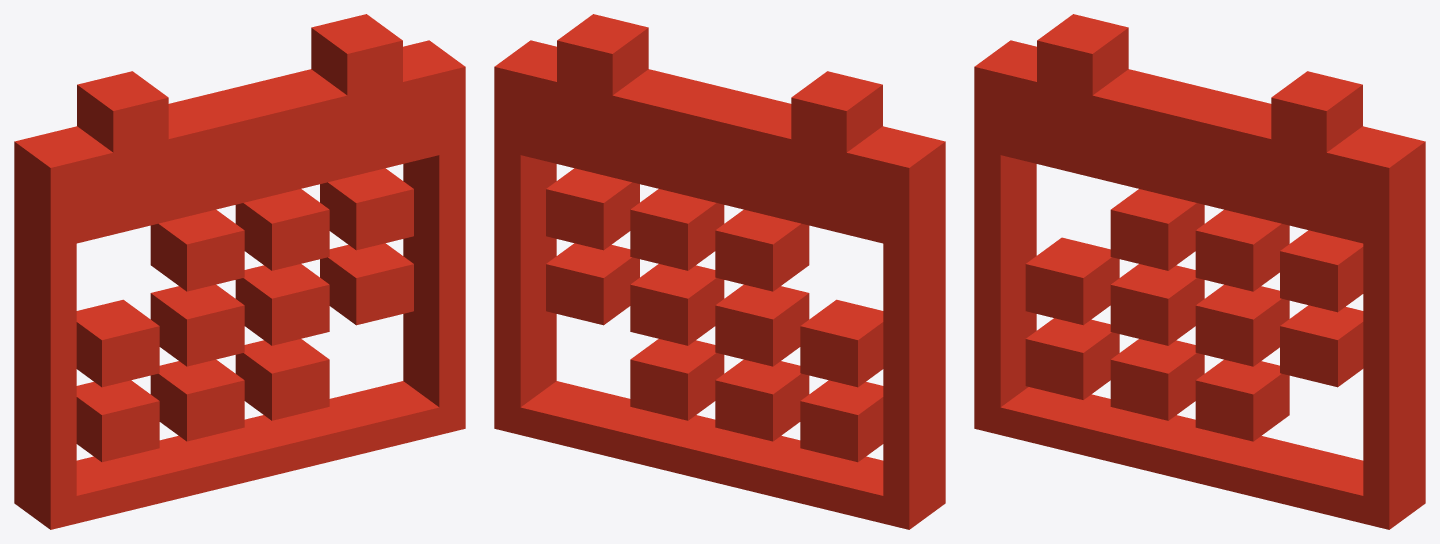
Rendered from Icon_Calendar_01.fbx.
3 views of the same model, side by side, from view 1: azimuth 30°, elevation 25°; view 2: azimuth 150°, elevation 25°; view 3: azimuth 330°, elevation 25° (orthographic).
Parts seen in each view (by area): view 1: Icon_Calendar_01; view 2: Icon_Calendar_01; view 3: Icon_Calendar_01.
Part boxes in pixels (x1,y1,x2,y2): Icon_Calendar_01: [14, 14, 465, 529]; Icon_Calendar_01: [494, 14, 945, 529]; Icon_Calendar_01: [974, 14, 1425, 529].
Size of the model in its own units: 79.82 by 74.18 by 12.06.
